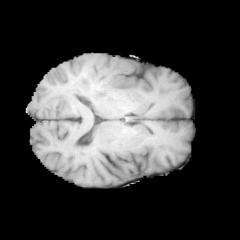glioma: (69, 58, 138, 102)
